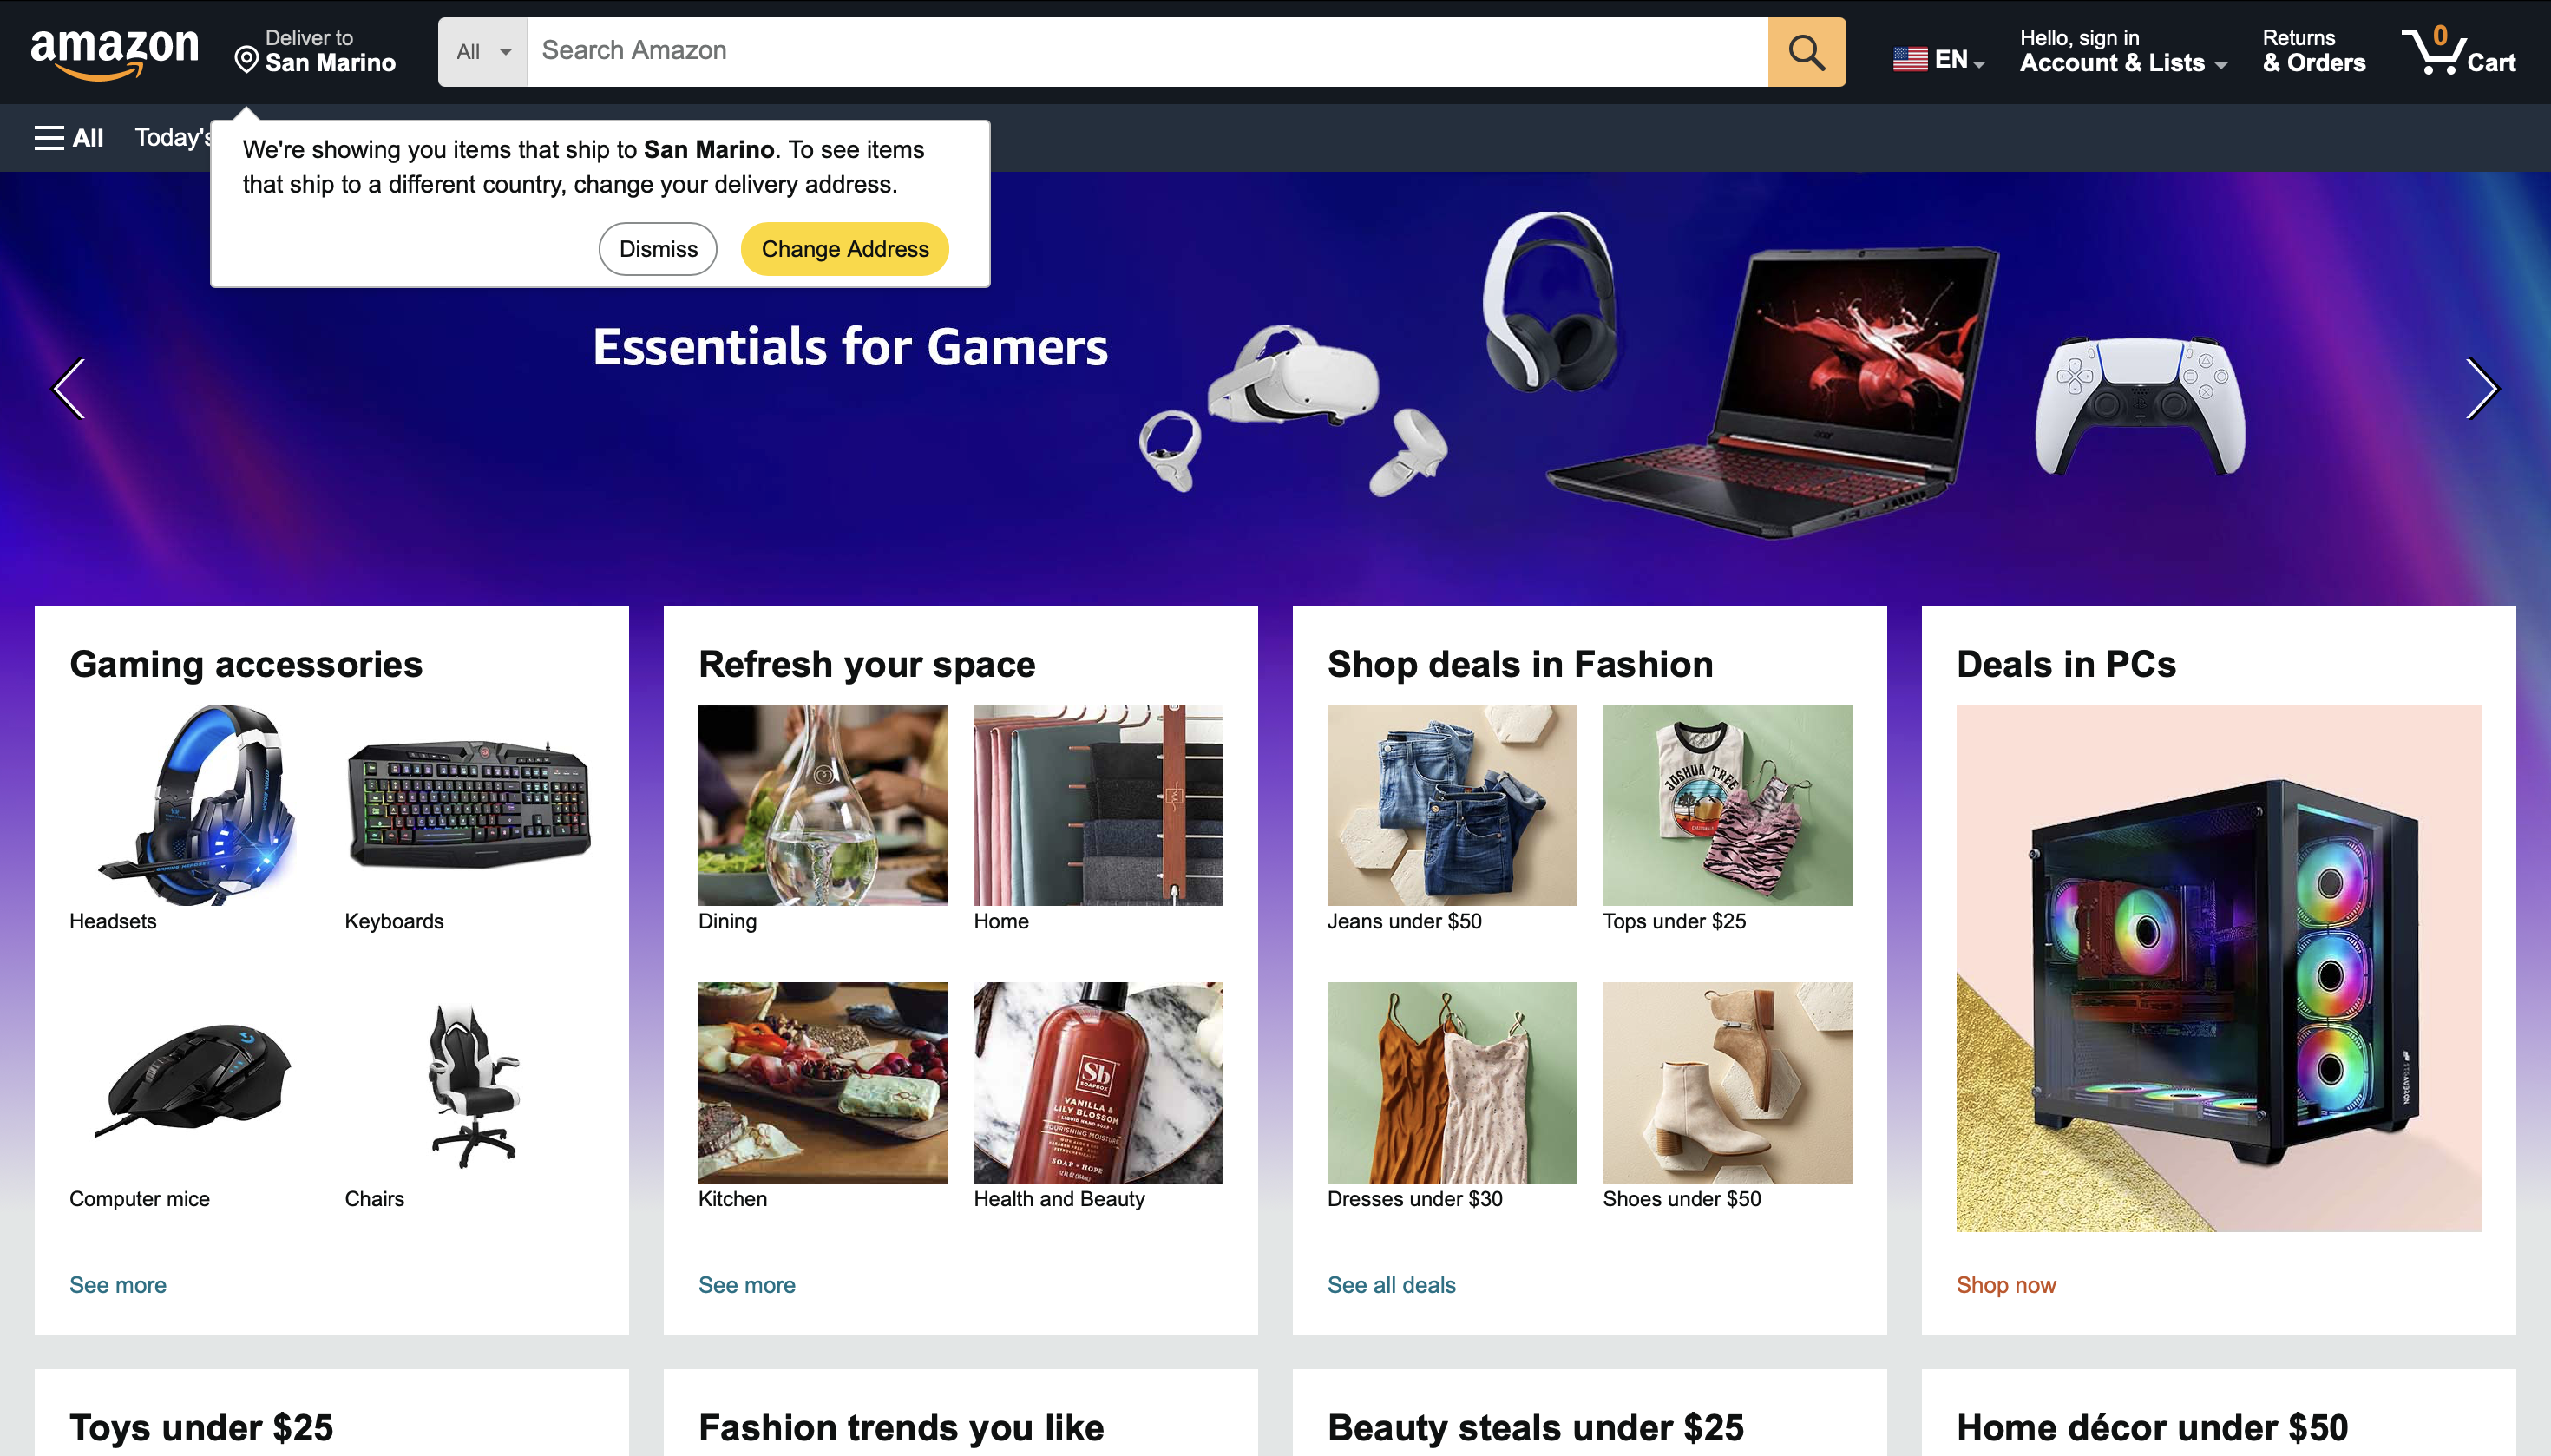cart_button: (2381, 7, 2539, 96)
continue_button: (1773, 5, 1854, 93)
search: (519, 14, 1773, 93)
